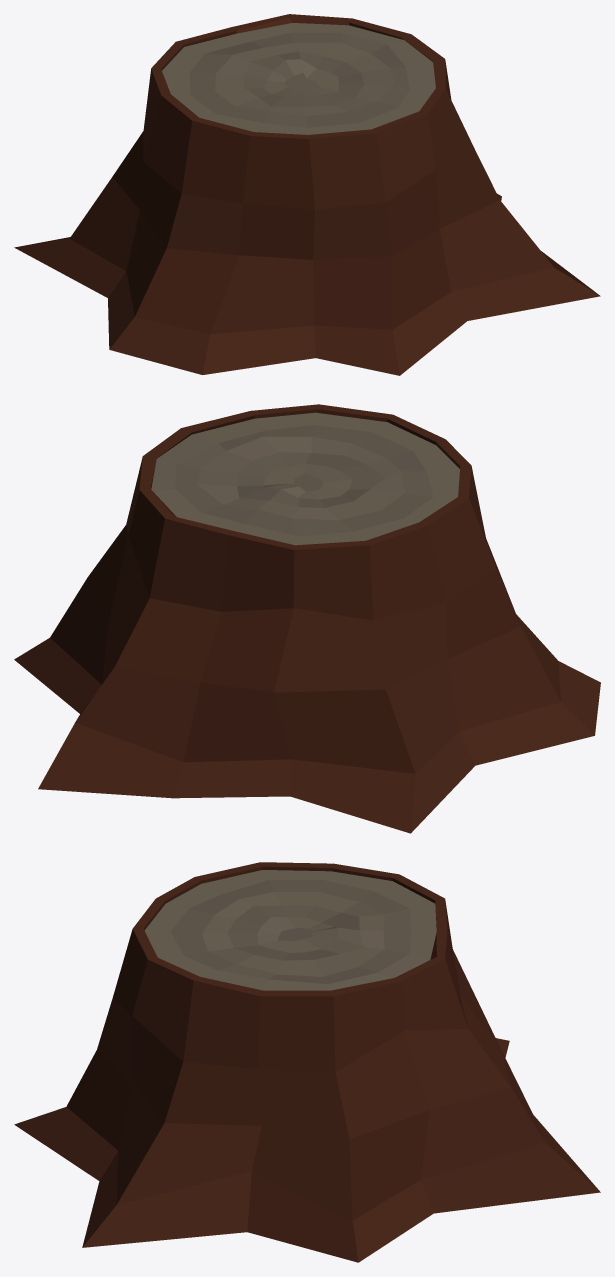
Rendered from stump1.fbx.
3 views of the same model, one above another, from view 1: azimuth 30°, elevation 25°; view 2: azimuth 150°, elevation 25°; view 3: azimuth 270°, elevation 25° (orthographic). The views are drawn at different scales.
Parts seen in each view (by area): view 1: Cylinder; view 2: Cylinder; view 3: Cylinder.
Part boxes in pixels (x1,y1,x2,y2): Cylinder: (14,14,600,375); Cylinder: (14,404,600,833); Cylinder: (14,862,600,1262).
Size of the model in its own units: 345 by 145 by 357.
